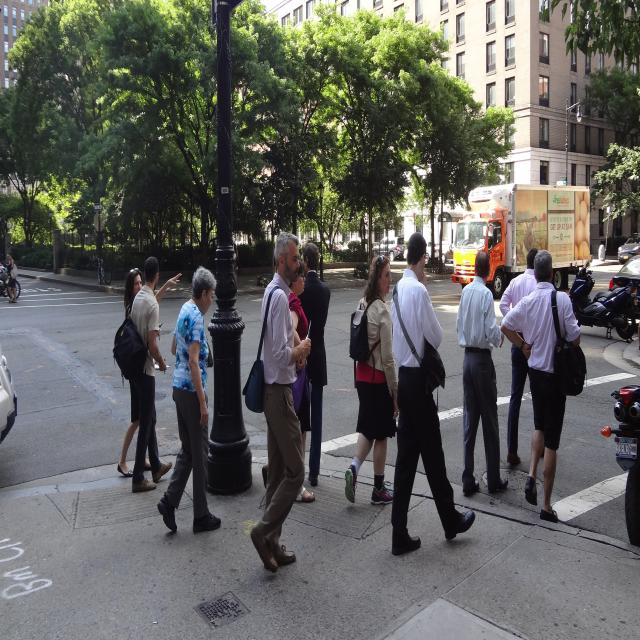body: (389, 229, 477, 560), (240, 229, 314, 577), (499, 247, 589, 525), (153, 262, 223, 538), (112, 255, 176, 496), (116, 266, 184, 480), (454, 246, 510, 498), (344, 254, 399, 505), (499, 248, 538, 464), (300, 242, 332, 486), (288, 258, 316, 504), (5, 251, 18, 304)
